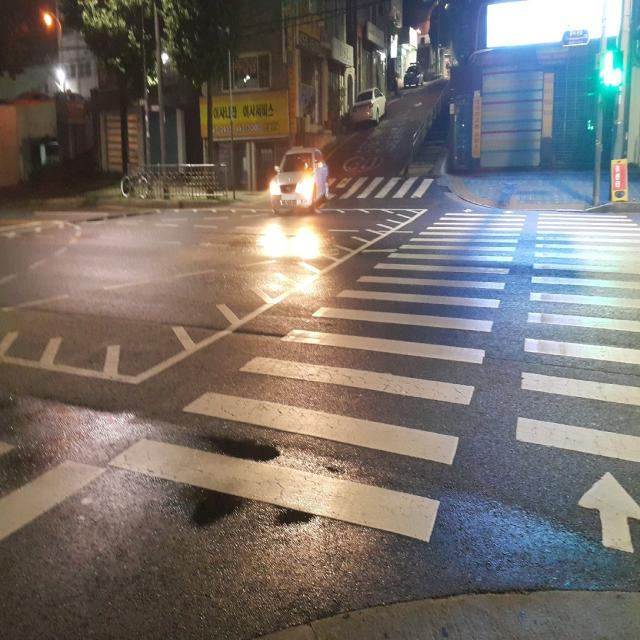초록불: (606, 49, 621, 89)
횡단보도: (105, 205, 640, 558), (339, 180, 424, 199)
